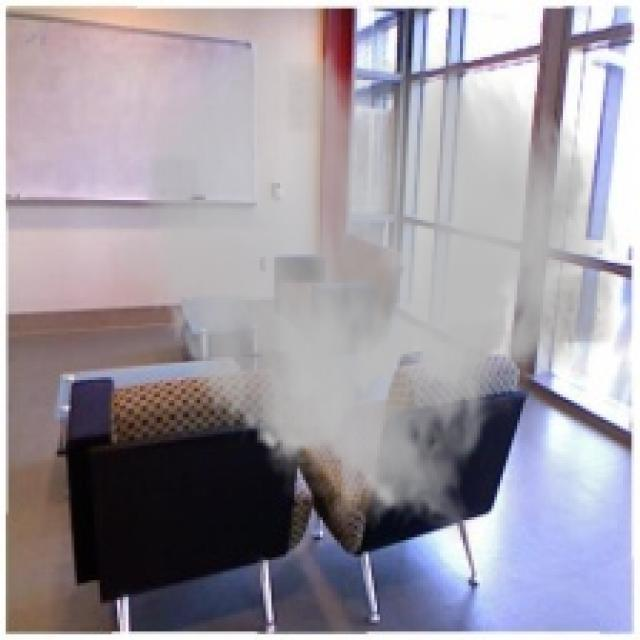Smoke: (108, 26, 623, 546)
